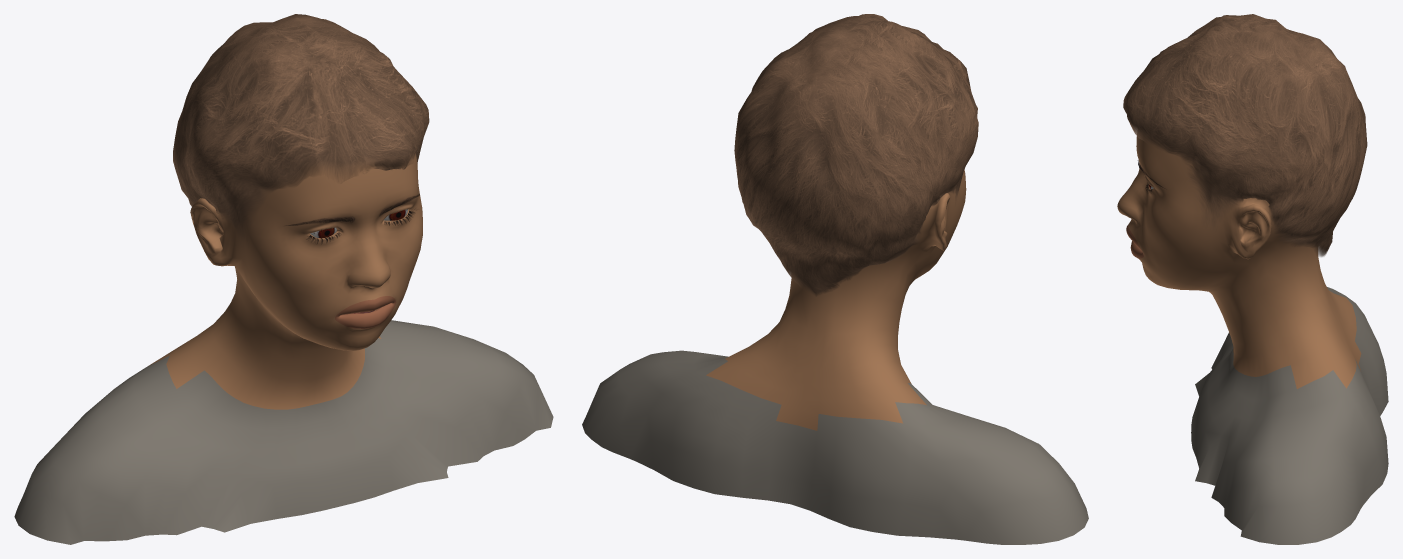
Rendered from woman-05.glb.
3 renders of one model, left to right at view 1: azimuth 30°, elevation 25°; view 2: azimuth 150°, elevation 25°; view 3: azimuth 270°, elevation 25°, orthographic. The views are drawn at different scales.
Visible parts, largest first — view 1: mpfb-face, mpfb-face.short02; view 2: mpfb-face, mpfb-face.short02; view 3: mpfb-face, mpfb-face.short02.
Part boxes in pixels (x1=…): mpfb-face: x1=14, y1=152, x2=553, y2=544; mpfb-face.short02: x1=173, y1=14, x2=429, y2=243; mpfb-face: x1=582, y1=169, x2=1088, y2=544; mpfb-face.short02: x1=734, y1=14, x2=978, y2=296; mpfb-face: x1=1117, y1=131, x2=1388, y2=544; mpfb-face.short02: x1=1123, y1=14, x2=1367, y2=256.
Bounding box in the file's own units: 0.4089 × 0.3444 × 0.2088.
9 materials, 6 textured.
